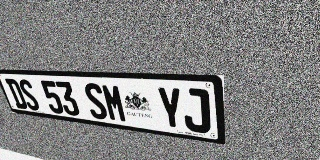3: (55, 81, 81, 117)
5: (40, 80, 65, 114)
D: (5, 78, 29, 109)
J: (181, 88, 211, 134)
M: (100, 83, 128, 123)
S: (82, 83, 109, 120), (17, 79, 41, 111)
Y: (156, 86, 185, 130)
